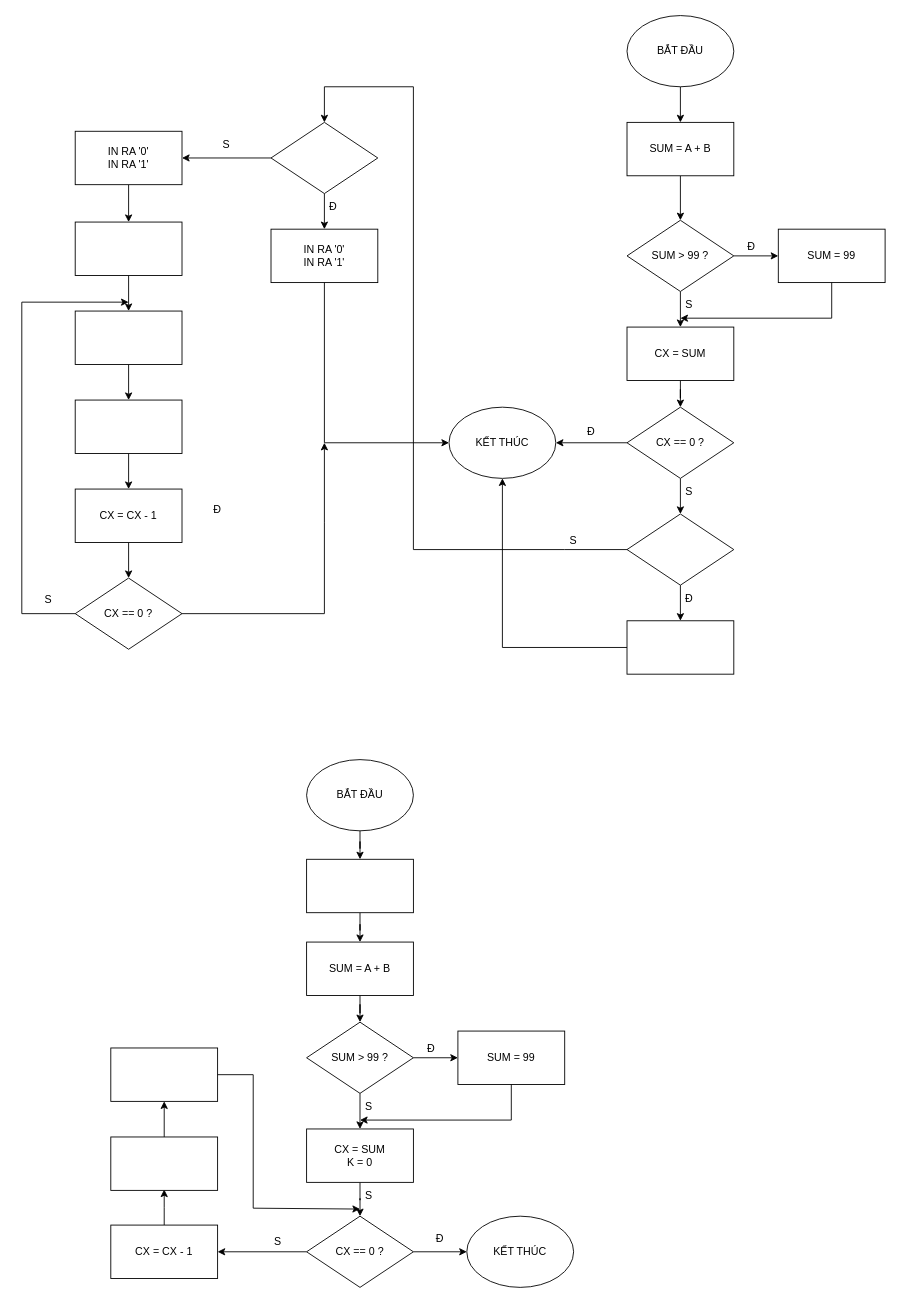
The diagram is 901 pixels wide and 1303 high, and some of its shapes have lost their labels. Here are the shapes that lost their labels. From the top down, the box of each, then its label:
(270, 121, 378, 194): CX == 2 ?
(74, 221, 182, 275): CX = CX - 2
(74, 310, 182, 364): GỌI HÀM TẠO SỐ FIBONACCI
(74, 399, 182, 453): IN RA SỐ FIBONACCI VỪA TẠO
(626, 513, 734, 585): CX == 1 ?
(626, 620, 734, 674): IN RA '0'
(306, 858, 413, 913): KHAI BÁO MẢNG 99 SỐ FIBONACCI
(110, 1047, 218, 1101): K = K + 1
(110, 1136, 218, 1190): IN RA SỐ FIBONACCI THỨ K TRONG MẢNG
